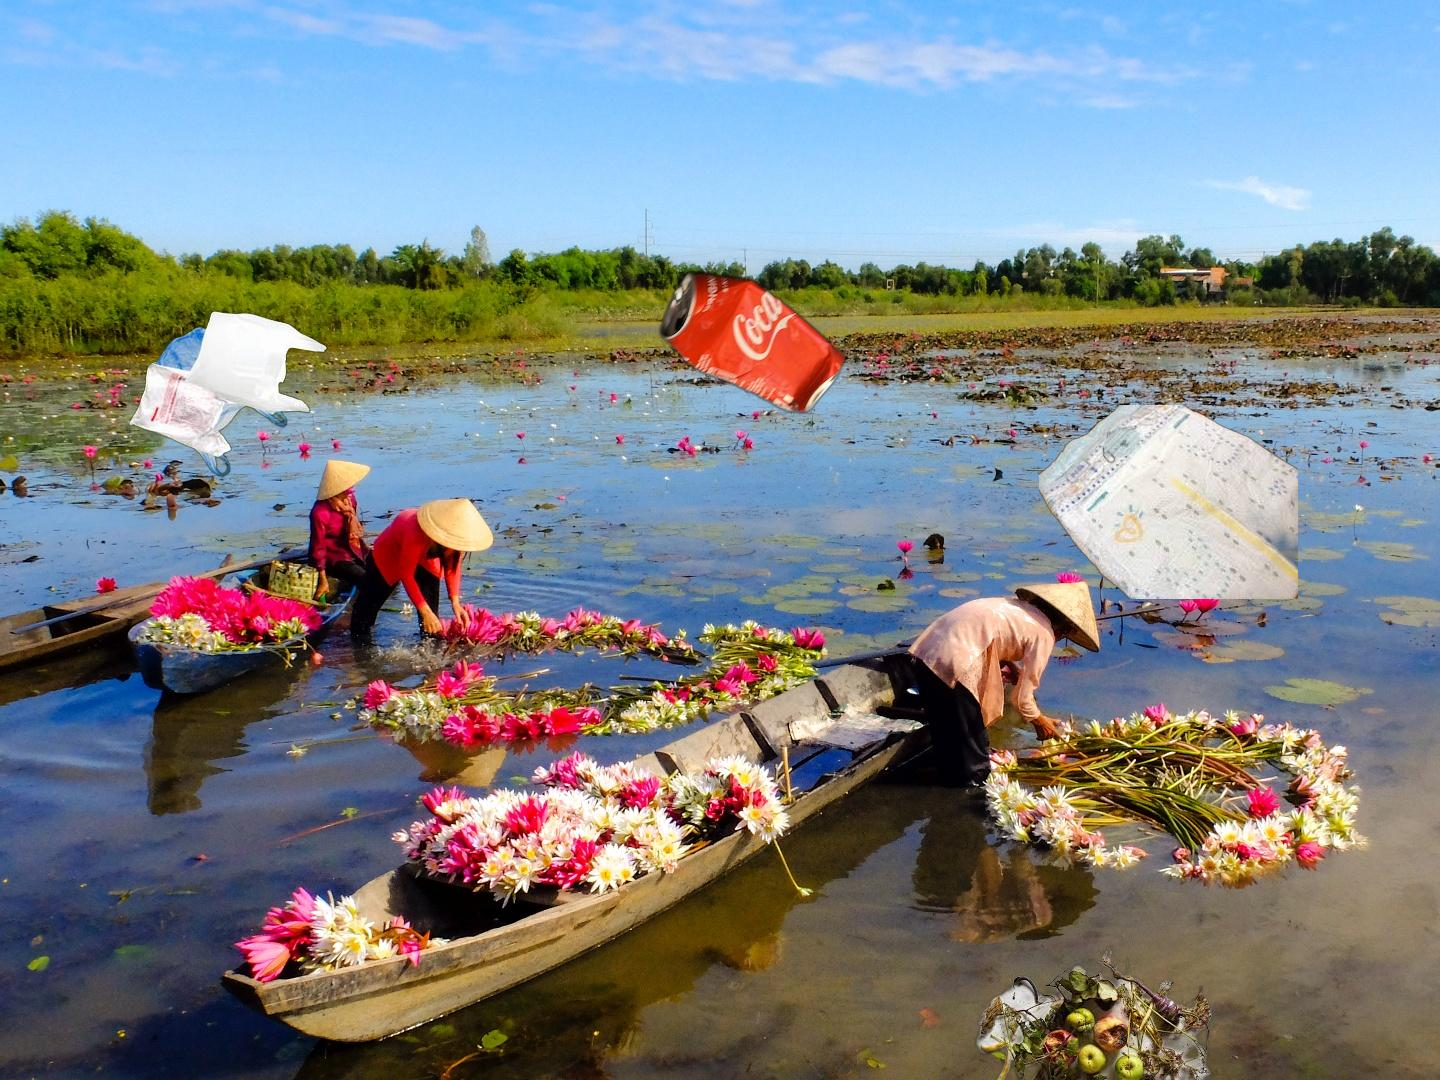biological: (972, 945, 1239, 1080)
metal-cans: (656, 266, 850, 420)
plastic-bag: (127, 308, 330, 480)
trash: (1039, 405, 1298, 599)
